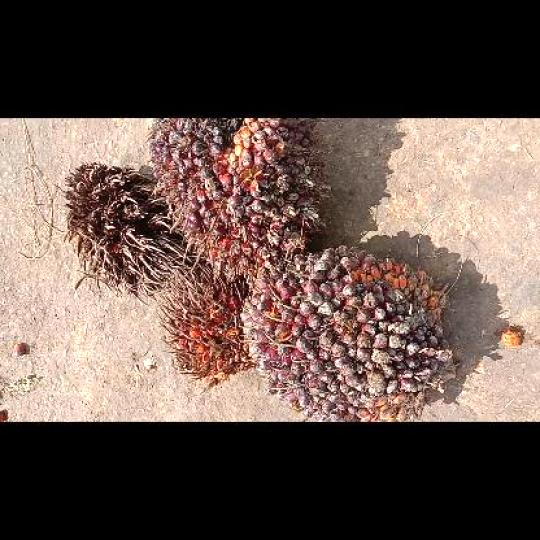kurang masak: (239, 245, 462, 420)
masak: (143, 118, 332, 277)
terlalu masak: (156, 260, 260, 392)
